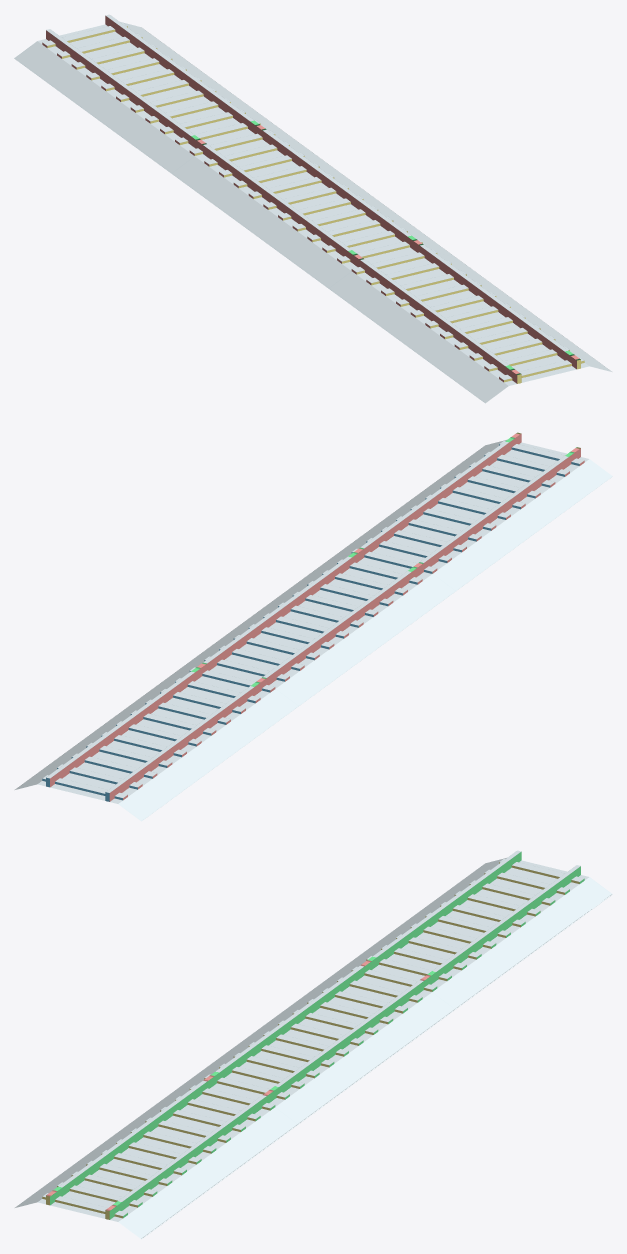
File: train tracks-straight.fbx
3 views of the same model, one above another, from view 1: azimuth 30°, elevation 25°; view 2: azimuth 150°, elevation 25°; view 3: azimuth 330°, elevation 25° (orthographic).
Parts seen in each view (by area): view 1: cuboid, cuboid_2, cuboid_1; view 2: cuboid, cuboid_2, cuboid_1; view 3: cuboid, cuboid_1, cuboid_2.
Part boxes in pixels (x1=…): cuboid: x1=14, y1=22, x2=611, y2=403; cuboid_2: x1=46, y1=29, x2=521, y2=383; cuboid_1: x1=105, y1=14, x2=580, y2=369; cuboid: x1=15, y1=440, x2=612, y2=821; cuboid_2: x1=105, y1=447, x2=580, y2=801; cuboid_1: x1=46, y1=432, x2=521, y2=787; cuboid: x1=15, y1=858, x2=612, y2=1239; cuboid_1: x1=105, y1=865, x2=580, y2=1219; cuboid_2: x1=46, y1=850, x2=521, y2=1205.
Bounding box in the file's own units: 375 × 57.81 × 2400.
Materials: 3 (3 with a texture image).
